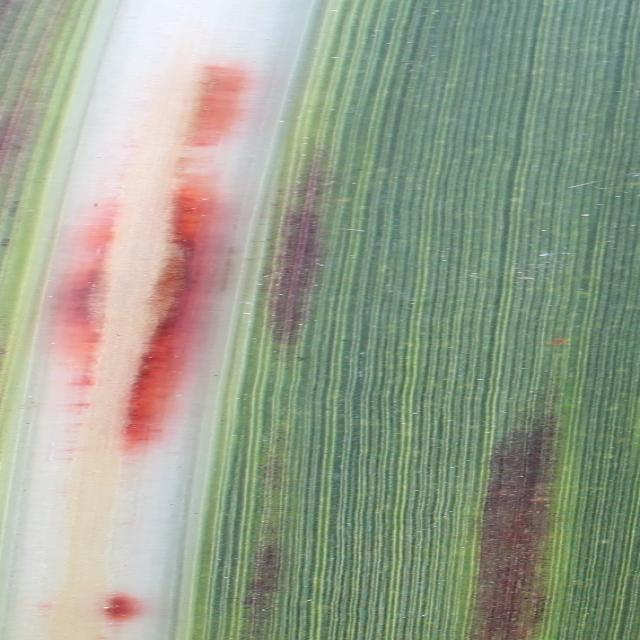Sugarcane: (10, 0, 628, 640)
